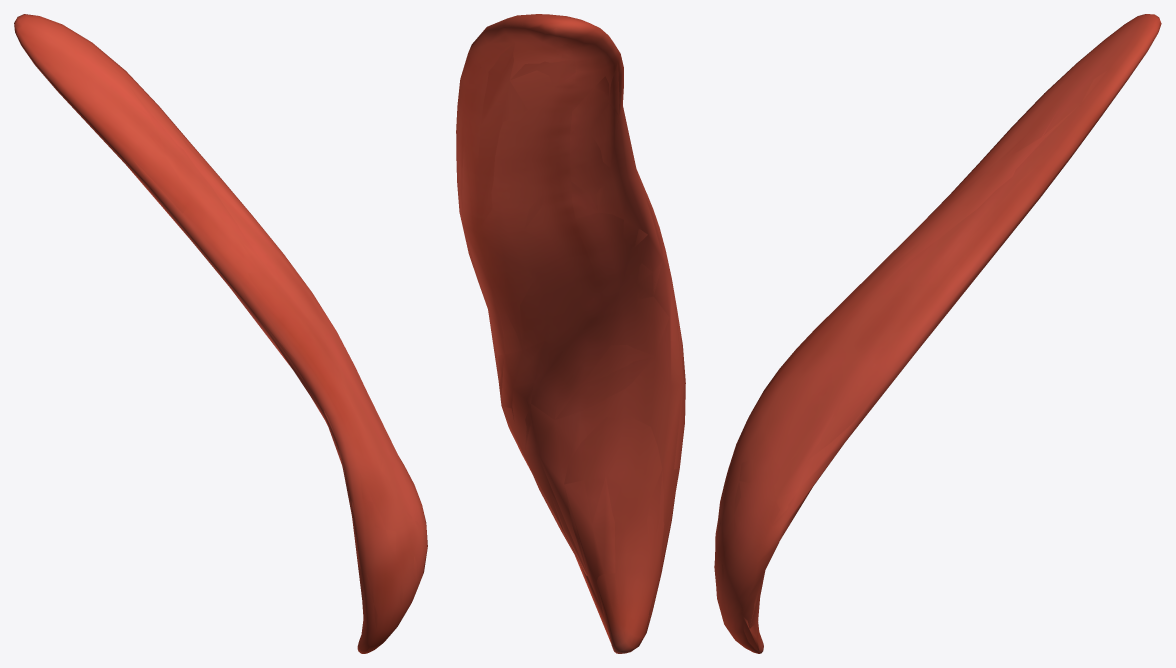
The model's file is L Supraspinatus.fbx.
The picture shows the model from 3 angles, left to right: view 1: azimuth 30°, elevation 25°; view 2: azimuth 150°, elevation 25°; view 3: azimuth 270°, elevation 25°; orthographic projection. The views are drawn at different scales.
Visible parts, largest first — view 1: L Supraspinatus, L Supraspinatus low; view 2: L Supraspinatus, L Supraspinatus low; view 3: L Supraspinatus, L Supraspinatus low.
Part boxes in pixels (left/top/right/bottom): L Supraspinatus: left=14, top=14, right=427, bottom=653; L Supraspinatus low: left=17, top=27, right=427, bottom=649; L Supraspinatus: left=456, top=14, right=685, bottom=653; L Supraspinatus low: left=460, top=22, right=685, bottom=650; L Supraspinatus: left=714, top=14, right=1161, bottom=653; L Supraspinatus low: left=715, top=15, right=1156, bottom=652.
Size of the model in its own units: 7.55 by 16.91 by 12.25.
